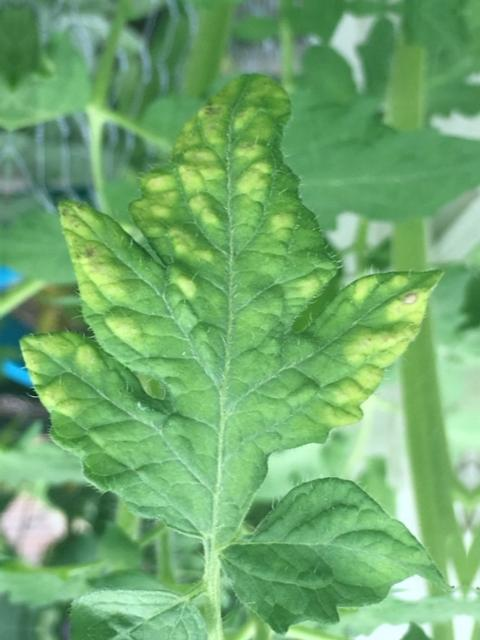Tomato leaf bacterial spot: (13, 35, 447, 577)
